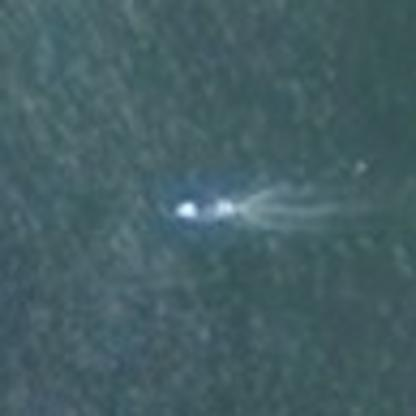ship: (164, 191, 239, 227)
